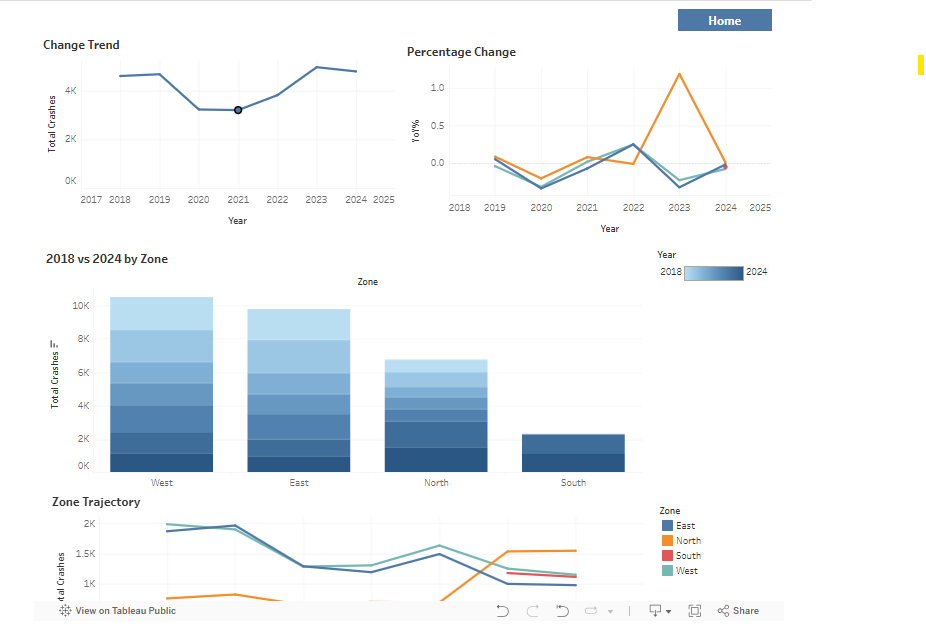

What the dashboard file says about the page in this screenshot:
{"tool":"tableau","page":{"name":"4.6-Year Progress Dahboard","canvas":[1000,800],"ordinal":3},"visuals":[{"type":"dashboard-object","box":[858,11,126,29]},{"type":"worksheet","title":"4.Change Trend","mark":"Automatic","rows":["TOTAL_CRASHES"],"cols":["YEAR"],"box":[8,40,473,266]},{"type":"worksheet","title":"4.% Change","mark":"Automatic","cols":["YEAR"],"box":[493,50,490,266]},{"type":"worksheet","title":"4.2018 vs 2024 by Zone","mark":"Automatic","rows":["TOTAL_CRASHES"],"cols":["ZONE"],"box":[12,325,799,325]},{"type":"legend","title":"4.2018 vs 2024 by Zone","param":"[federated.17armho0r1lj9910p09ld1gyewd9].[none:YEAR:qk]","box":[831,329,152,82]},{"type":"legend","title":"4.% Change","param":"[federated.17armho0r1lj9910p09ld1gyewd9].[none:ZONE:nk]","box":[834,670,140,126]}]}

Visuals, with their boxes on the page's 1000x800 design canvas (x1, y1, x2, y2). These are canvas units, not pixel positions in the 926x639 screenshot, which may show the page scaled, cropped or inside an application window:
dashboard-object: <box>858,11,984,40</box>
"4.Change Trend" worksheet: <box>8,40,481,306</box>
"4.% Change" worksheet: <box>493,50,983,316</box>
"4.2018 vs 2024 by Zone" worksheet: <box>12,325,811,650</box>
"4.2018 vs 2024 by Zone" legend: <box>831,329,983,411</box>
"4.% Change" legend: <box>834,670,974,796</box>
